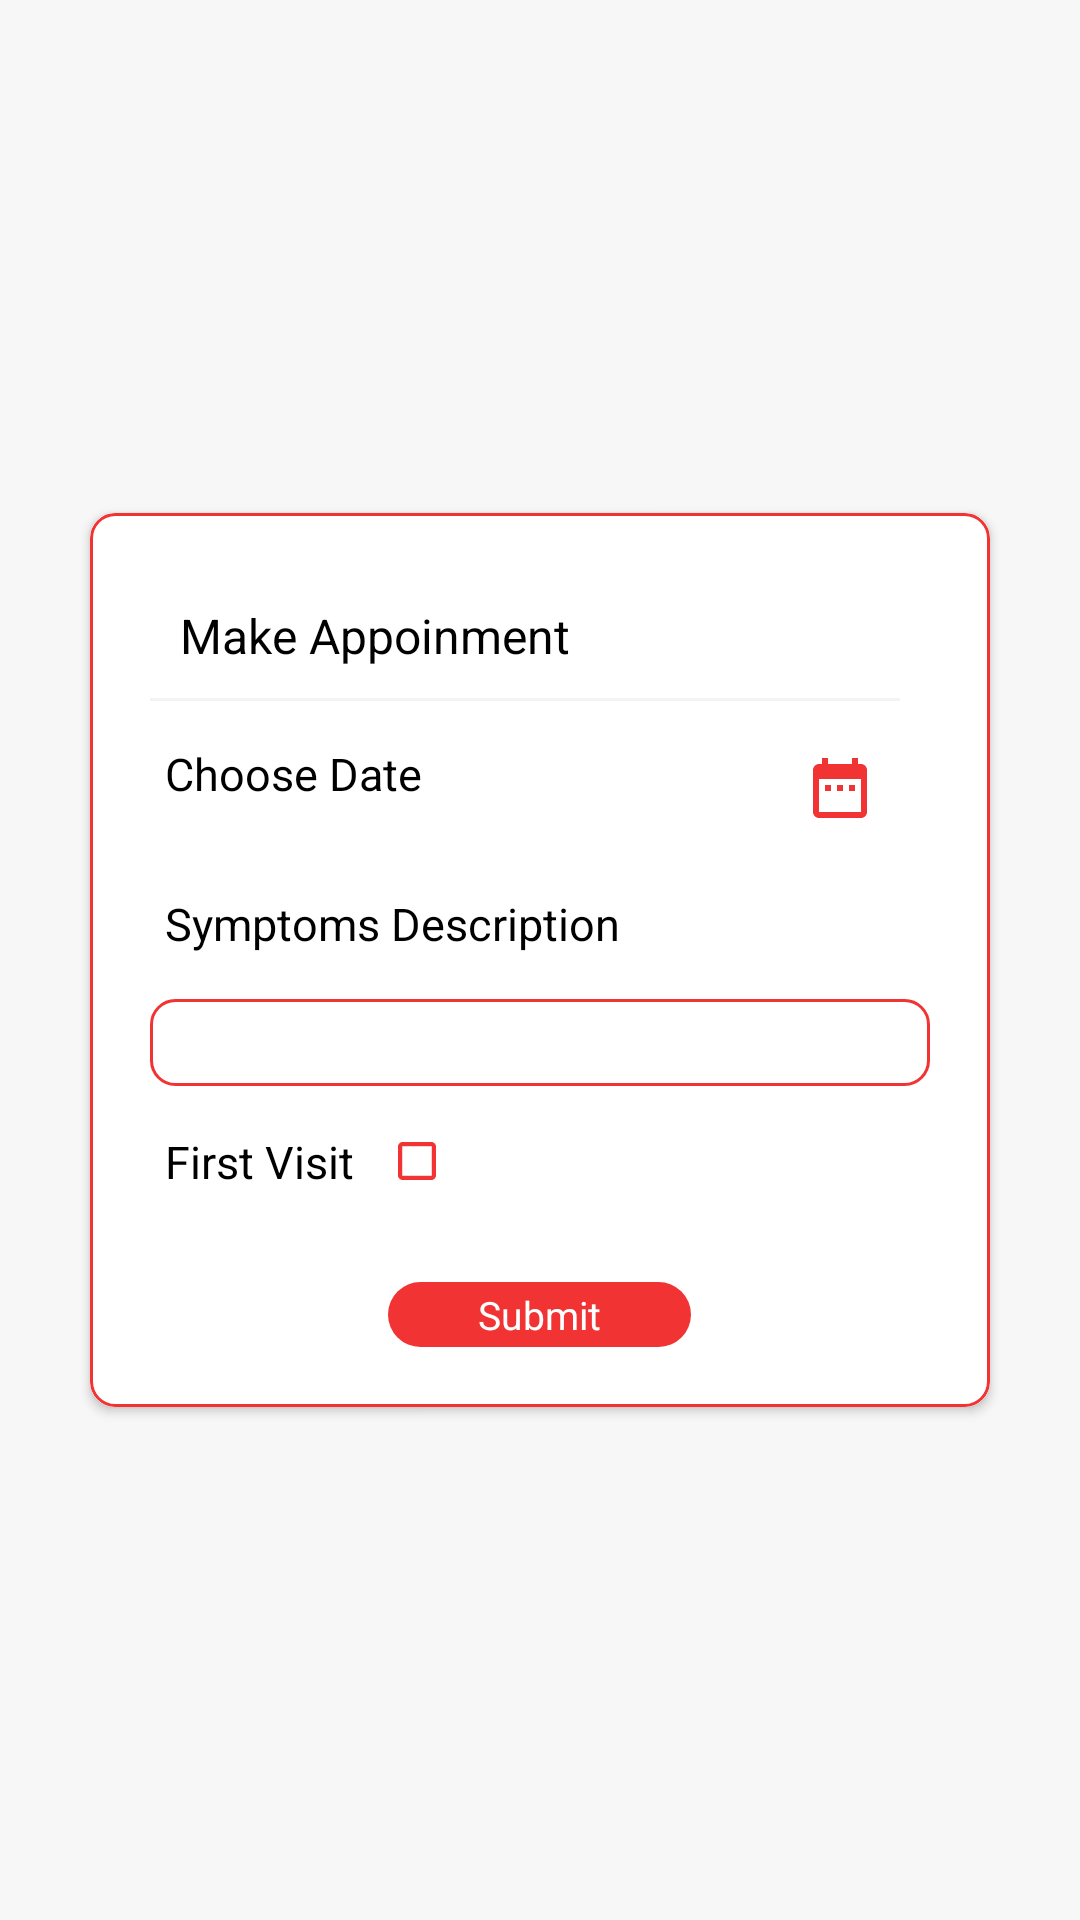

Locate icon controls on the screen. Image size 1080x1920, boxes as (x1, y1, x2, y2).
date: (813, 758, 867, 818)
